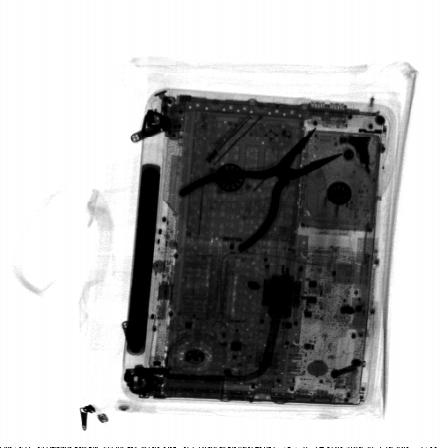Pliers: (178, 125, 345, 255)
